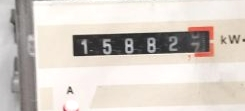1: (79, 37, 89, 55)
2: (167, 33, 178, 50)
5: (100, 37, 112, 54)
7: (189, 39, 200, 52)
8: (123, 36, 134, 53), (146, 35, 156, 51)
screen: (65, 22, 220, 61)
